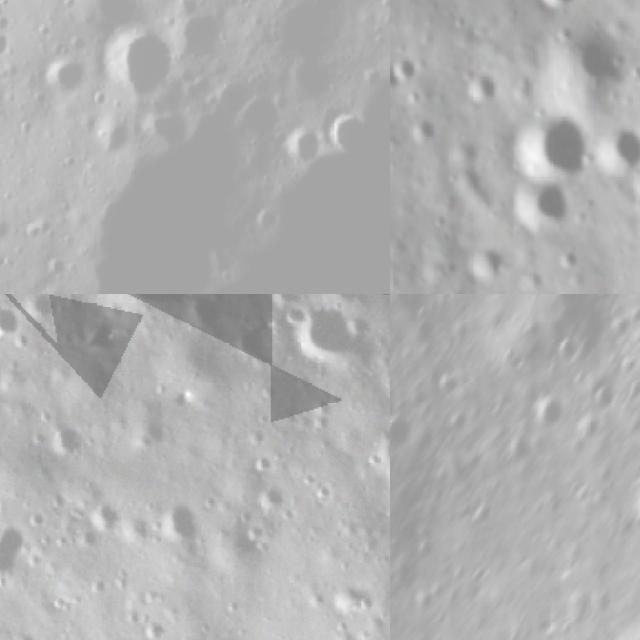crater: (508, 105, 596, 183), (98, 16, 182, 97), (550, 24, 631, 100), (292, 304, 376, 370), (502, 175, 576, 233), (149, 490, 202, 550), (99, 294, 196, 323), (457, 241, 512, 292), (322, 105, 373, 159), (595, 120, 640, 181), (523, 386, 572, 436), (36, 56, 88, 103), (249, 472, 289, 524), (273, 131, 324, 171), (44, 417, 88, 462), (457, 65, 502, 108), (364, 418, 390, 484), (547, 329, 585, 373), (0, 516, 25, 582), (621, 462, 640, 543), (584, 379, 620, 415), (403, 112, 438, 147), (390, 410, 415, 456), (0, 297, 24, 342), (390, 49, 418, 84), (527, 0, 588, 14), (0, 24, 14, 67)
